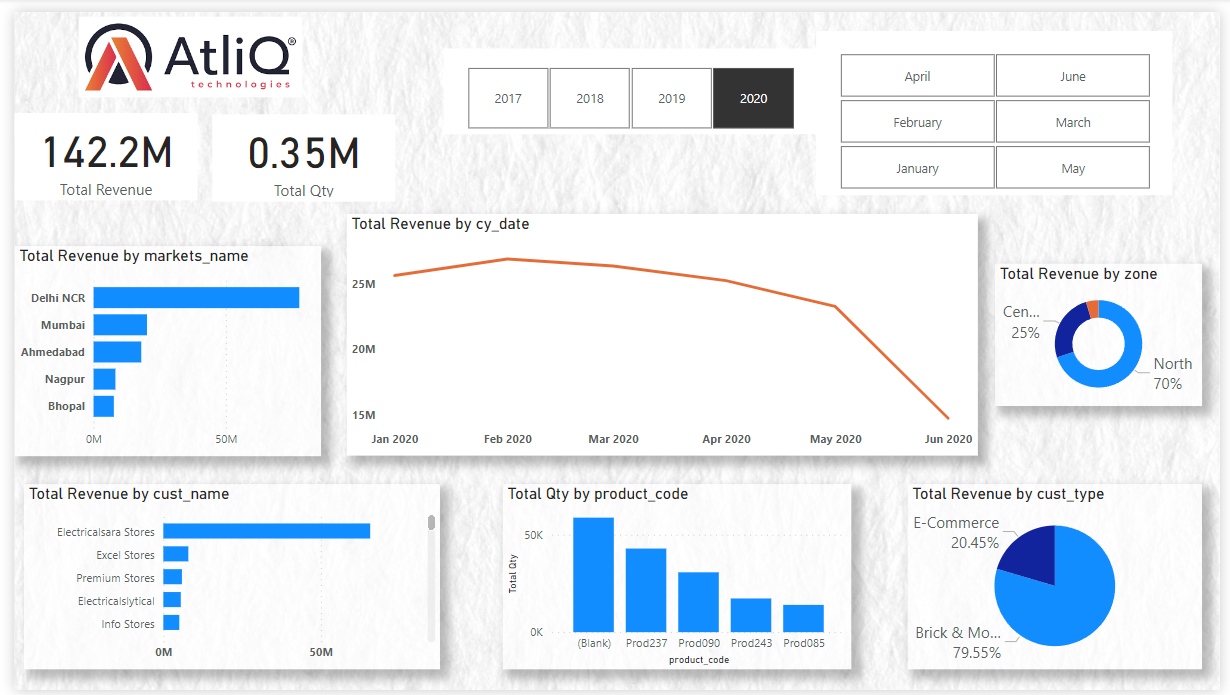

The page's visual inventory and layout, read from the dashboard file:
{"tool":"powerbi","page":{"name":"Page 1","canvas":[1280,720],"ordinal":0},"visuals":[{"type":"card","fields":{"Values":["created_measures.Total Revenue"]},"box":[34.3,61.7,193.5,91.9],"z":0},{"type":"card","fields":{"Values":["created_measures.Total Qty"]},"box":[227.8,61.7,193.5,91.9],"z":1000},{"type":"barChart","fields":{"Category":["public markets.markets_name"],"Y":["created_measures.Total Revenue"]},"box":[0,214.1,387,223.7],"z":2000},{"type":"barChart","fields":{"Category":["public customers.cust_name"],"Y":["created_measures.Total Revenue"]},"box":[9.6,500.9,387,207.2],"z":3000},{"type":"slicer","fields":{"Values":["public date.years"]},"box":[412.5,0,398.8,95],"z":4000},{"type":"pieChart","fields":{"Category":["public customers.cust_type"],"Y":["created_measures.Total Revenue"]},"box":[826.2,540,312.5,158.8],"z":5000},{"type":"donutChart","fields":{"Category":["public markets.zone"],"Y":["created_measures.Total Revenue"]},"box":[172.5,348.8,248.8,152.5],"z":6000},{"type":"slicer","fields":{"Values":["public date.month_name"]},"box":[792.5,0,380,173.8],"z":8000},{"type":"lineChart","fields":{"Y":["created_measures.Total Revenue"],"Category":["public date.cy_date"]},"box":[435,181.2,673.8,256.2],"z":9000},{"type":"lineClusteredColumnComboChart","fields":{"Y":["created_measures.Total Qty"],"Category":["public products.product_code"]},"box":[435,540,353.8,150],"z":9001}]}

Visuals, with their boxes in screenshot pixels (x1, y1, x2, y2), scaled from the page's 1280x720 canvas onto the 1230x695 screenshot:
card - created_measures.Total Revenue: <region>33, 60, 219, 148</region>
card - created_measures.Total Qty: <region>219, 60, 405, 148</region>
barChart - public markets.markets_name x created_measures.Total Revenue: <region>0, 207, 372, 423</region>
barChart - public customers.cust_name x created_measures.Total Revenue: <region>9, 484, 381, 684</region>
slicer - public date.years: <region>396, 0, 780, 92</region>
pieChart - public customers.cust_type x created_measures.Total Revenue: <region>794, 521, 1094, 675</region>
donutChart - public markets.zone x created_measures.Total Revenue: <region>166, 337, 405, 484</region>
slicer - public date.month_name: <region>762, 0, 1127, 168</region>
lineChart - created_measures.Total Revenue x public date.cy_date: <region>418, 175, 1065, 422</region>
lineClusteredColumnComboChart - created_measures.Total Qty x public products.product_code: <region>418, 521, 758, 666</region>
